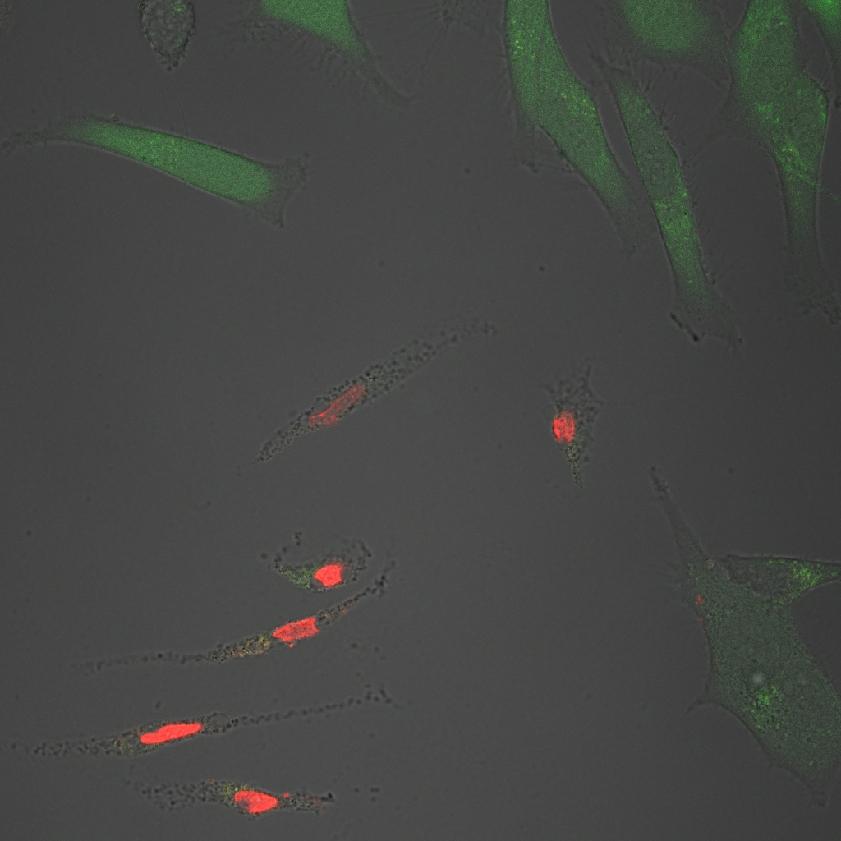dead: (261, 312, 503, 465), (7, 684, 422, 766), (78, 605, 381, 674), (111, 774, 397, 833), (536, 342, 618, 487), (266, 517, 378, 599)
live: (617, 60, 744, 352)
